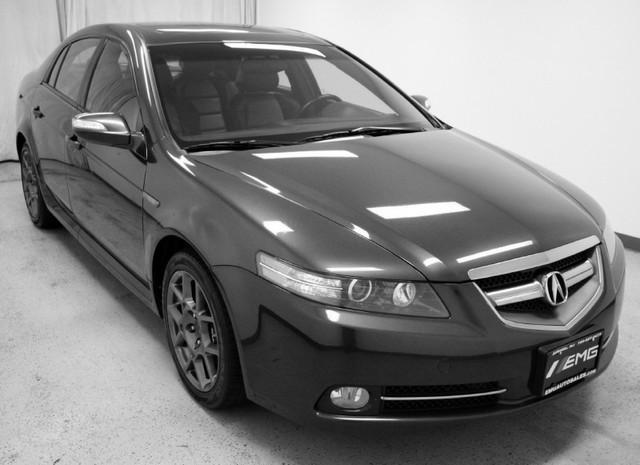car: (18, 27, 625, 436)
